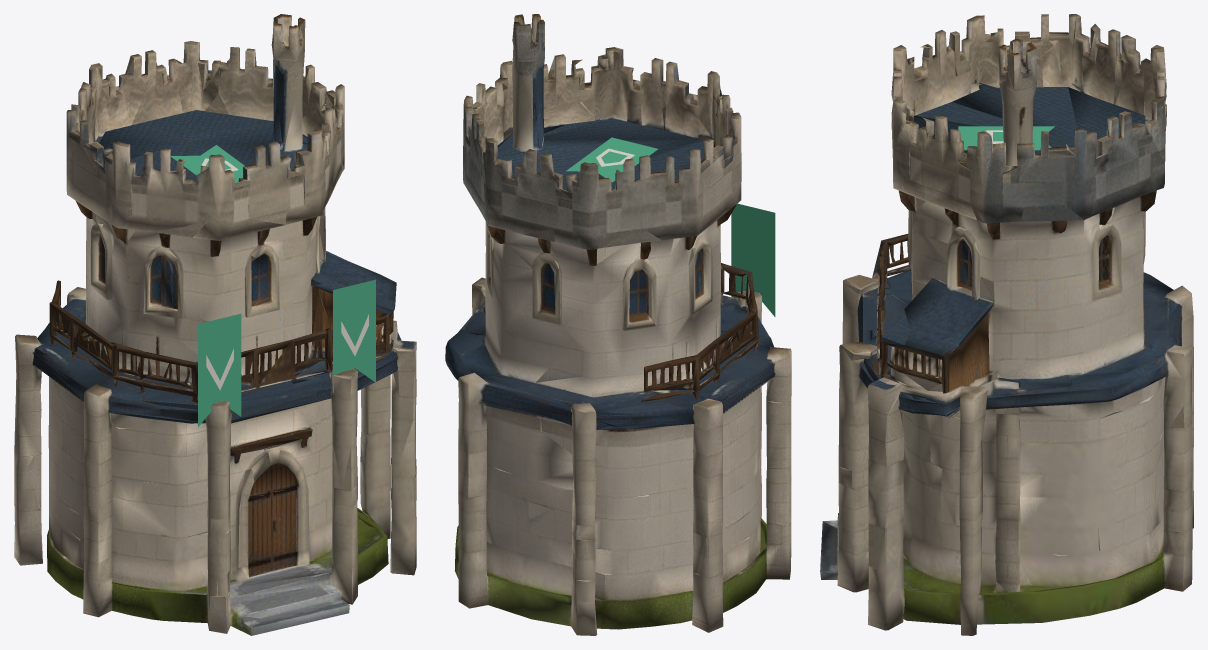
The model's file is tower.glb.
3 renders of one model, left to right at view 1: azimuth 30°, elevation 25°; view 2: azimuth 150°, elevation 25°; view 3: azimuth 270°, elevation 25°, orthographic. The views are drawn at different scales.
Parts seen in each view (by area): view 1: StructureBody, BannerTeam; view 2: StructureBody, BannerTeam; view 3: StructureBody, BannerTeam.
Part boxes in pixels (x1,y1,x2,y2): StructureBody: (14, 14, 416, 635); BannerTeam: (170, 145, 375, 426); StructureBody: (445, 14, 791, 635); BannerTeam: (566, 137, 775, 316); StructureBody: (820, 14, 1193, 635); BannerTeam: (958, 126, 1054, 150).
Size of the model in its own units: 5 by 8 by 4.93.
Materials: 2 (1 with a texture image).
